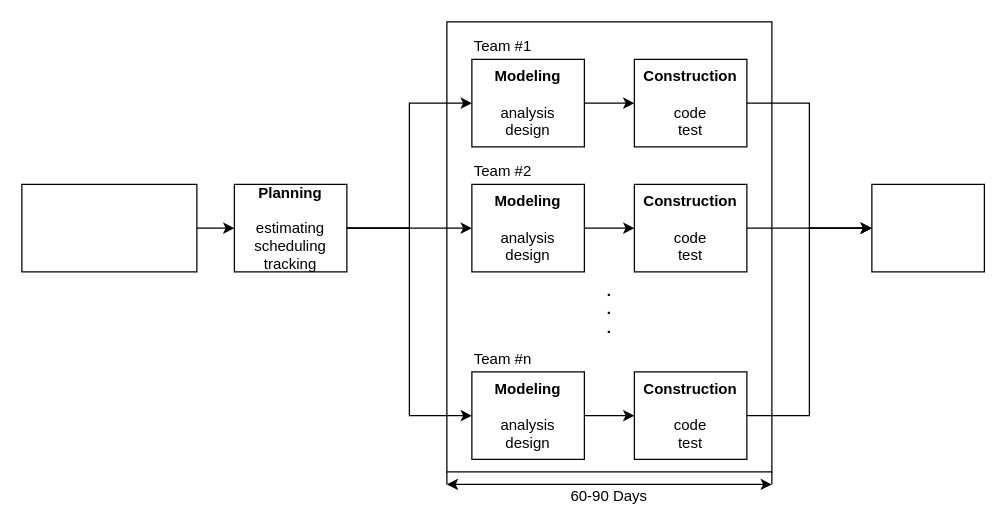
The diagram is 1006 pixels wide and 531 high, and some of its shapes have lost their labels. The shapes that lost their labels are listed below. From the top down, each one's centre as x and y in pixels, then its label:
At point 109,227: "Communication project initiation requirements gathering".
At point 927,227: "Deployment delivery support feedback".
